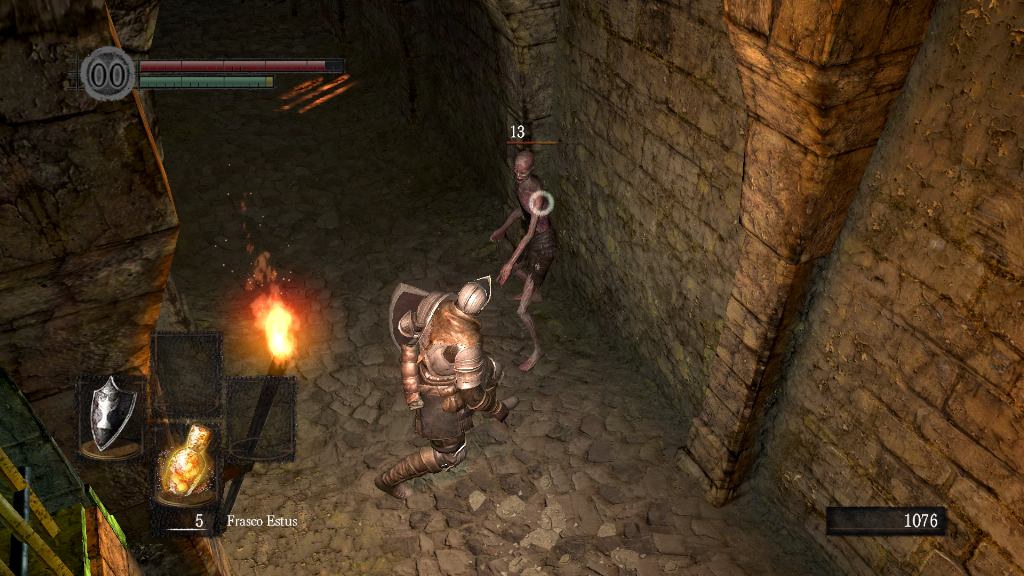health: (138, 58, 343, 71)
hollow: (487, 146, 560, 378)
humanity: (80, 45, 136, 102)
player: (374, 273, 511, 505)
souls: (825, 506, 945, 536)
stamina: (138, 74, 274, 88)
